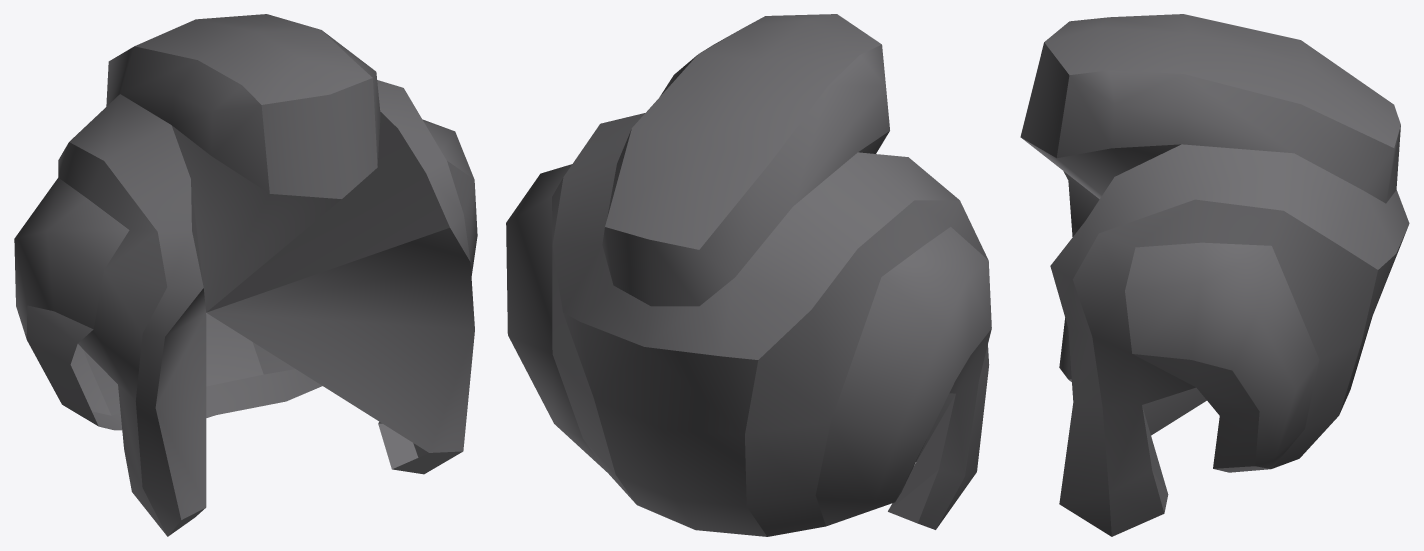
The model's file is Male_Hairs_02_v2.fbx.
3 renders of one model, left to right at view 1: azimuth 30°, elevation 25°; view 2: azimuth 150°, elevation 25°; view 3: azimuth 270°, elevation 25°, orthographic. The views are drawn at different scales.
Parts seen in each view (by area): view 1: Male_Hairs_02_v2; view 2: Male_Hairs_02_v2; view 3: Male_Hairs_02_v2.
Part boxes in pixels (<box>): Male_Hairs_02_v2: <box>14,14,477,536</box>; Male_Hairs_02_v2: <box>506,14,991,536</box>; Male_Hairs_02_v2: <box>1020,14,1409,536</box>.
Size of the model in its own units: 63.93 by 65.97 by 52.04.
